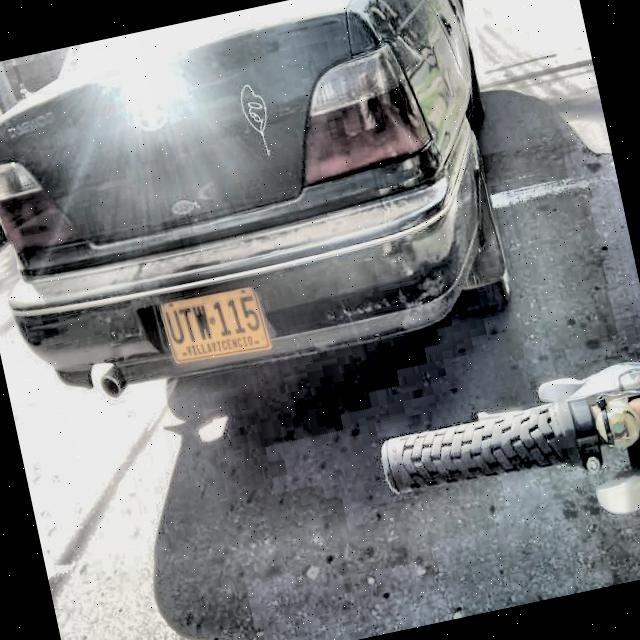1: (224, 294, 247, 336), (212, 298, 232, 338)
5: (238, 292, 262, 334)
T: (176, 305, 197, 343)
U: (163, 309, 187, 347)
W: (190, 303, 214, 342)
